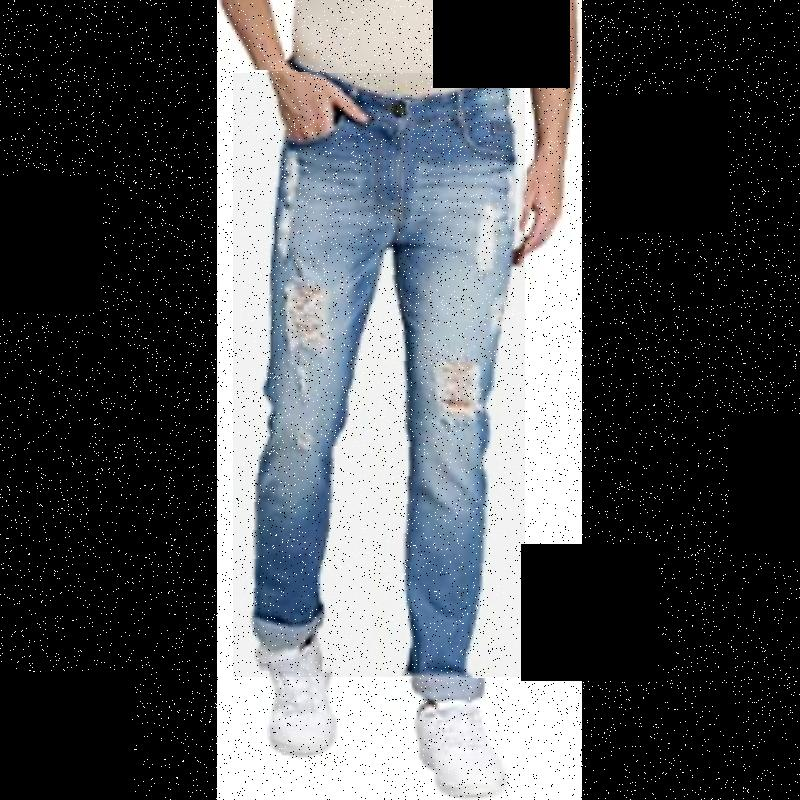Jeans: (233, 73, 525, 677)
